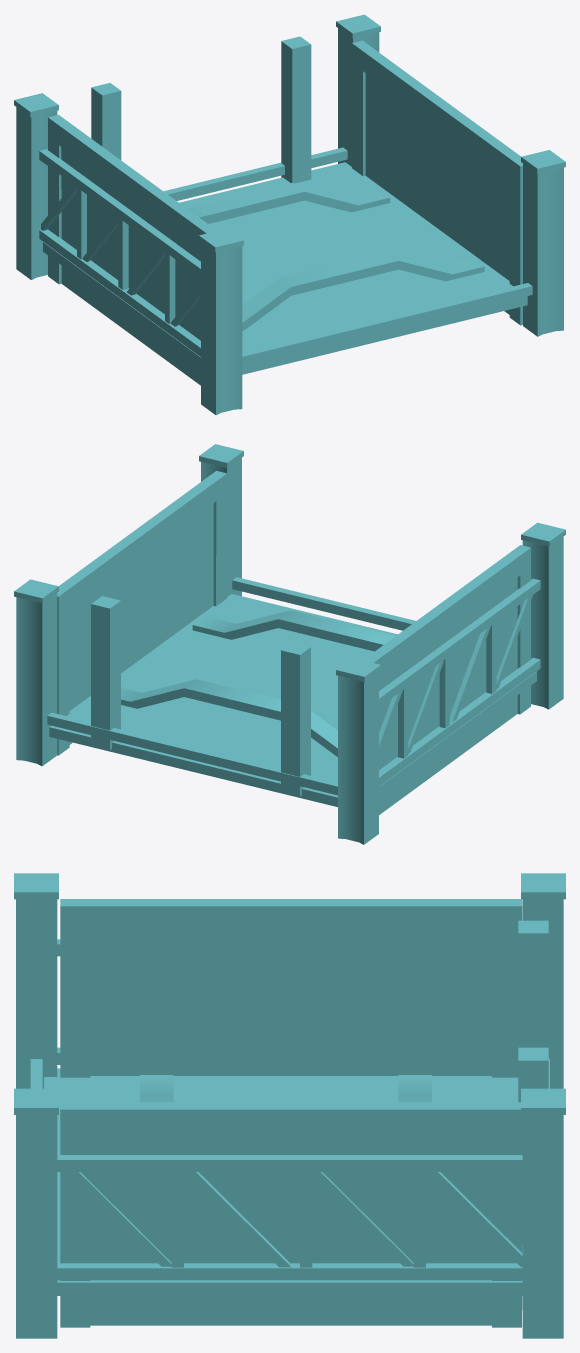
The model's file is Elevator_Shaft_Base.fbx.
The picture shows the model from 3 angles, top to bottom: view 1: azimuth 30°, elevation 25°; view 2: azimuth 150°, elevation 25°; view 3: azimuth 270°, elevation 25°; orthographic projection. The views are drawn at different scales.
Parts seen in each view (by area): view 1: Elevator_Shaft_Base; view 2: Elevator_Shaft_Base; view 3: Elevator_Shaft_Base.
Boxes of the visible parts, x1=… form: Elevator_Shaft_Base: x1=14, y1=14, x2=565, y2=415; Elevator_Shaft_Base: x1=14, y1=444, x2=565, y2=844; Elevator_Shaft_Base: x1=14, y1=873, x2=565, y2=1338.
Size of the model in its own units: 369 by 170 by 367.
